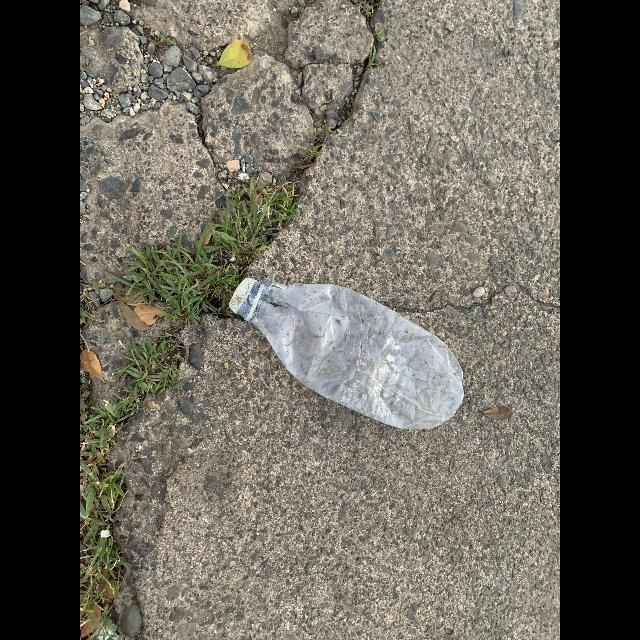Plastic: (230, 274, 464, 430), (230, 278, 256, 314)
